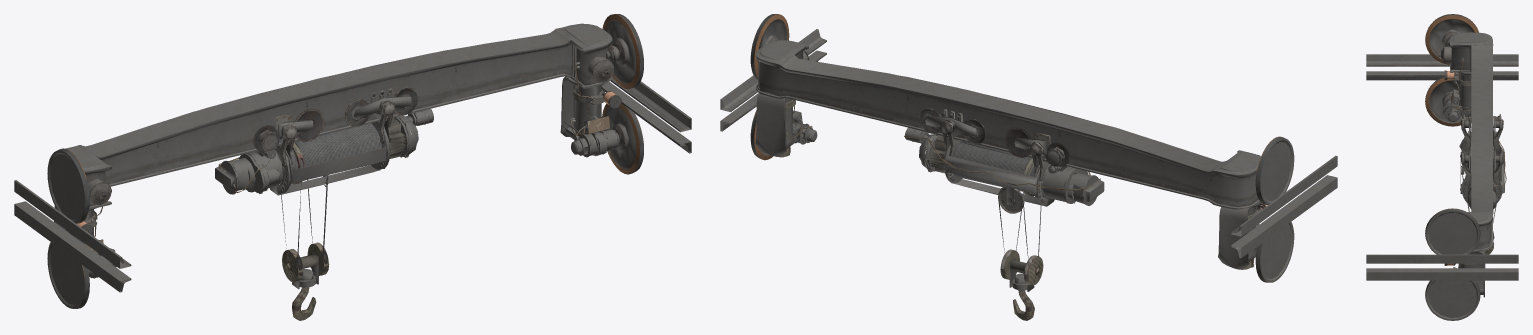
The model's file is overhead_crane.glb.
3 renders of one model, left to right at view 1: azimuth 30°, elevation 25°; view 2: azimuth 150°, elevation 25°; view 3: azimuth 270°, elevation 25°, orthographic. The views are drawn at different scales.
Visible parts, largest first — view 1: overhead_crane_rails; view 2: overhead_crane_rails; view 3: overhead_crane_rails.
Boxes of the visible parts, x1,y1,x2,y2 form: overhead_crane_rails: [14, 14, 691, 320]; overhead_crane_rails: [720, 14, 1337, 320]; overhead_crane_rails: [1366, 14, 1518, 320].
Bounding box in the file's own units: 12.49 × 5.13 × 4.
2 materials, 2 textured.
